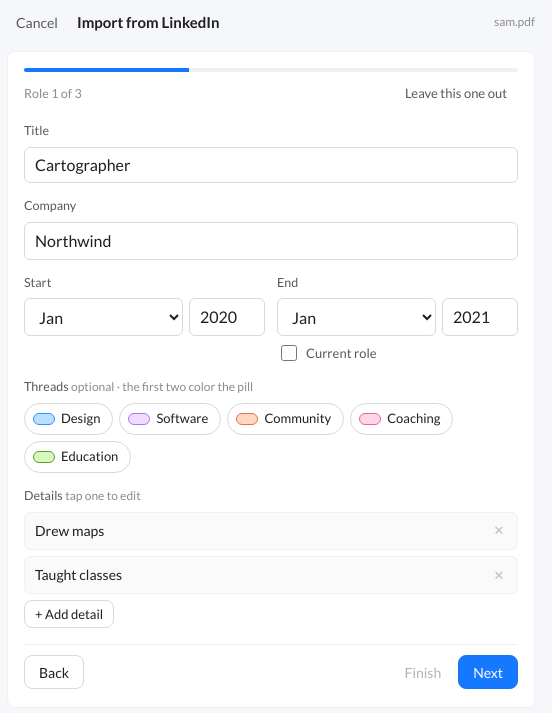
Scenario: ImportFlow › edits, removes and restores details
Click the button "Drew maps" at (70, 530), box [25,513,477,549]
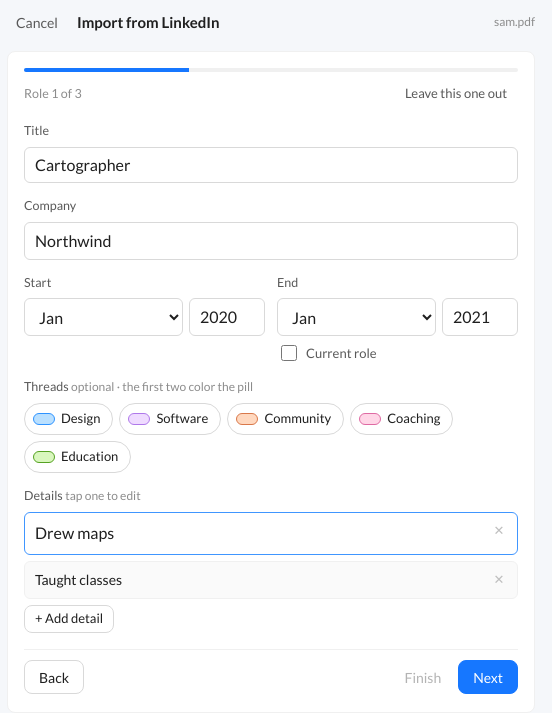
Type keys " of lakes{Enter}"
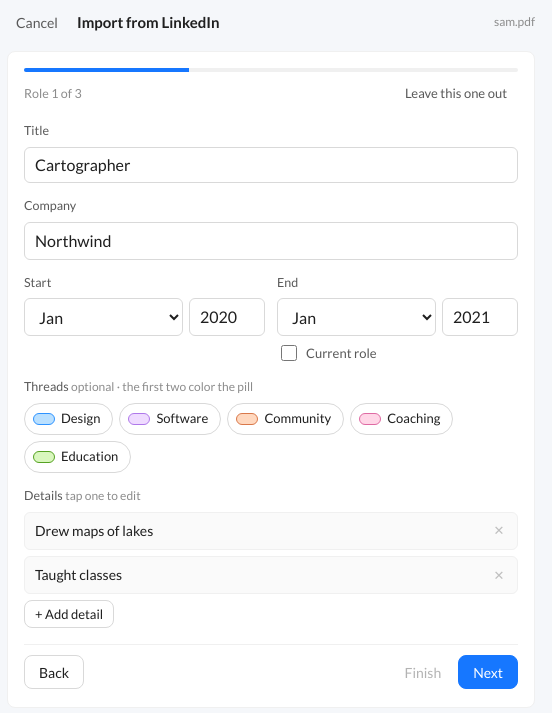
expect the button "Drew maps of lakes" is shown: met, box [25,513,477,549]
Click the button named "Remove detail" at (499, 575), box [481,557,517,593]
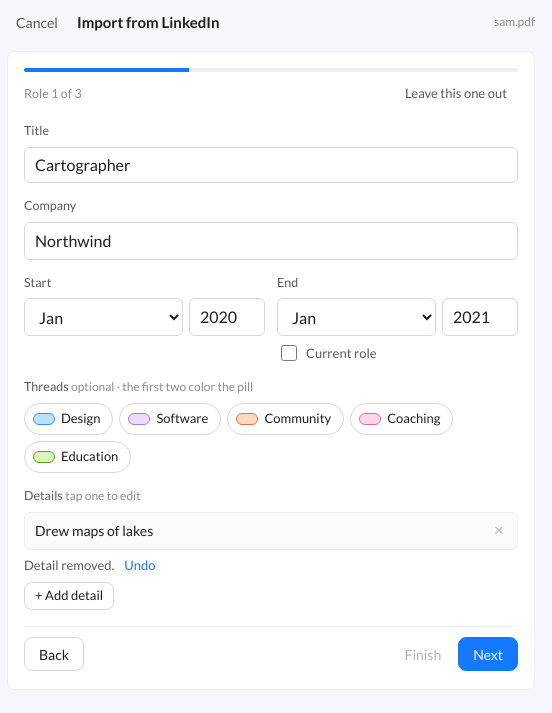
expect the button "Taught classes" is gone: met
Click the button "Undo" at (140, 566), box [124,556,156,576]
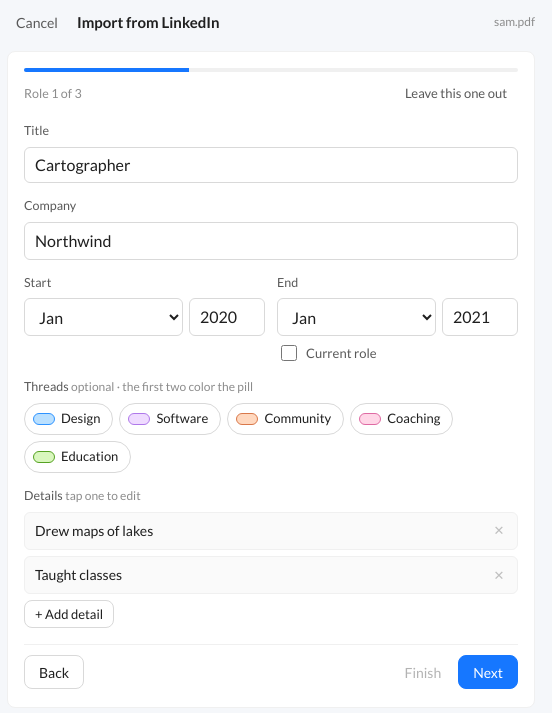
expect the button "Taught classes" is shown: met, box [25,557,477,593]
Click the button "+ Add detail" at (69, 614), box [24,600,114,628]
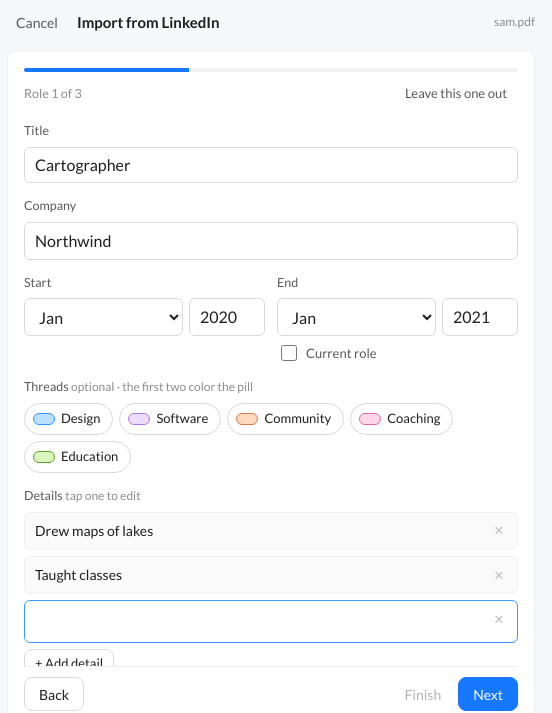
Type keys "Led field trips{Enter}"
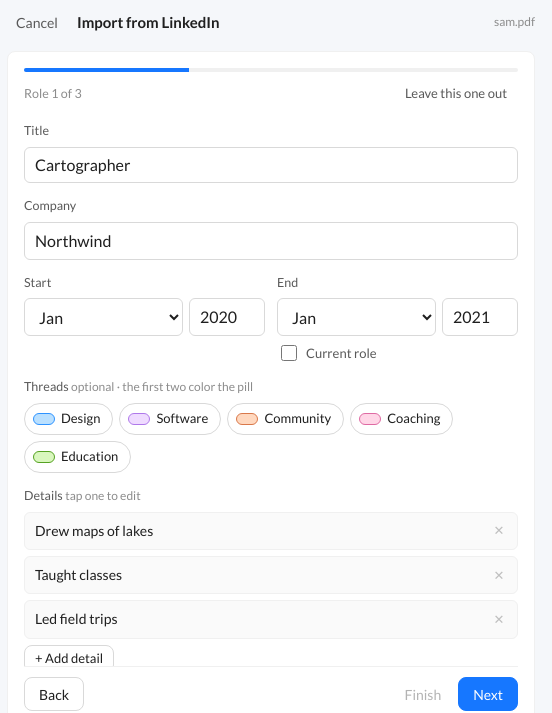
expect the number of list items is 3: met, box [24,512,518,550]; [24,556,518,594]; [24,600,518,639]
